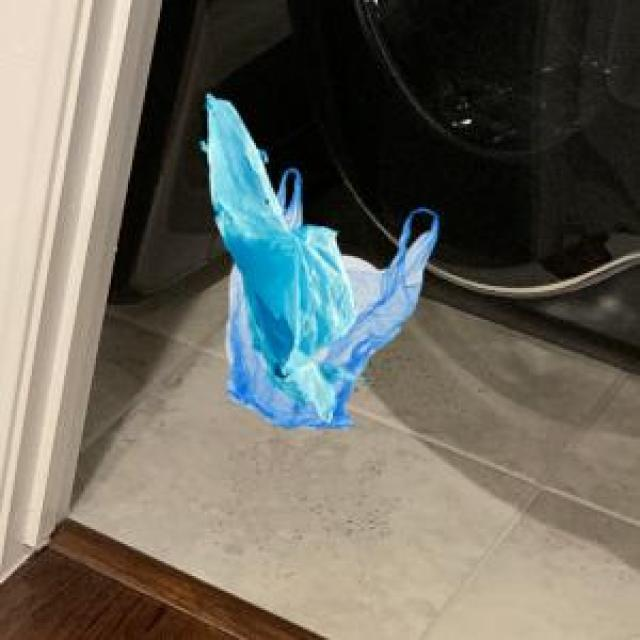waste: (208, 95, 439, 427)
